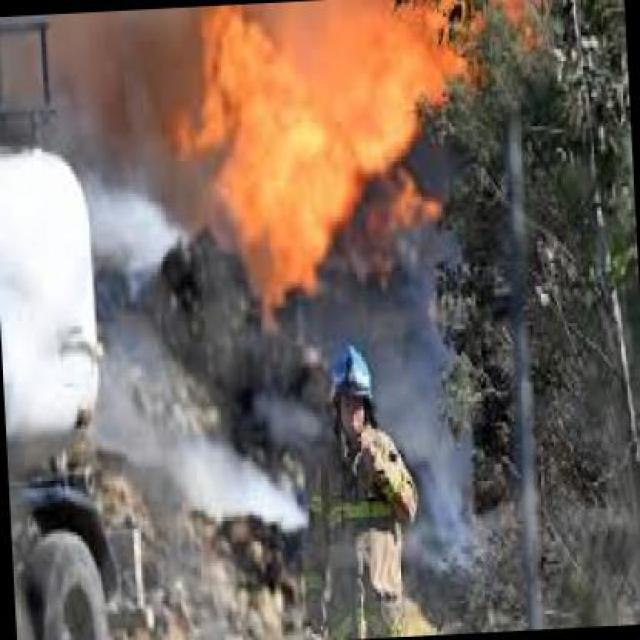Fire: (172, 2, 463, 306)
Smoke: (66, 381, 328, 556), (380, 342, 504, 610), (82, 32, 192, 228), (73, 154, 184, 298)
